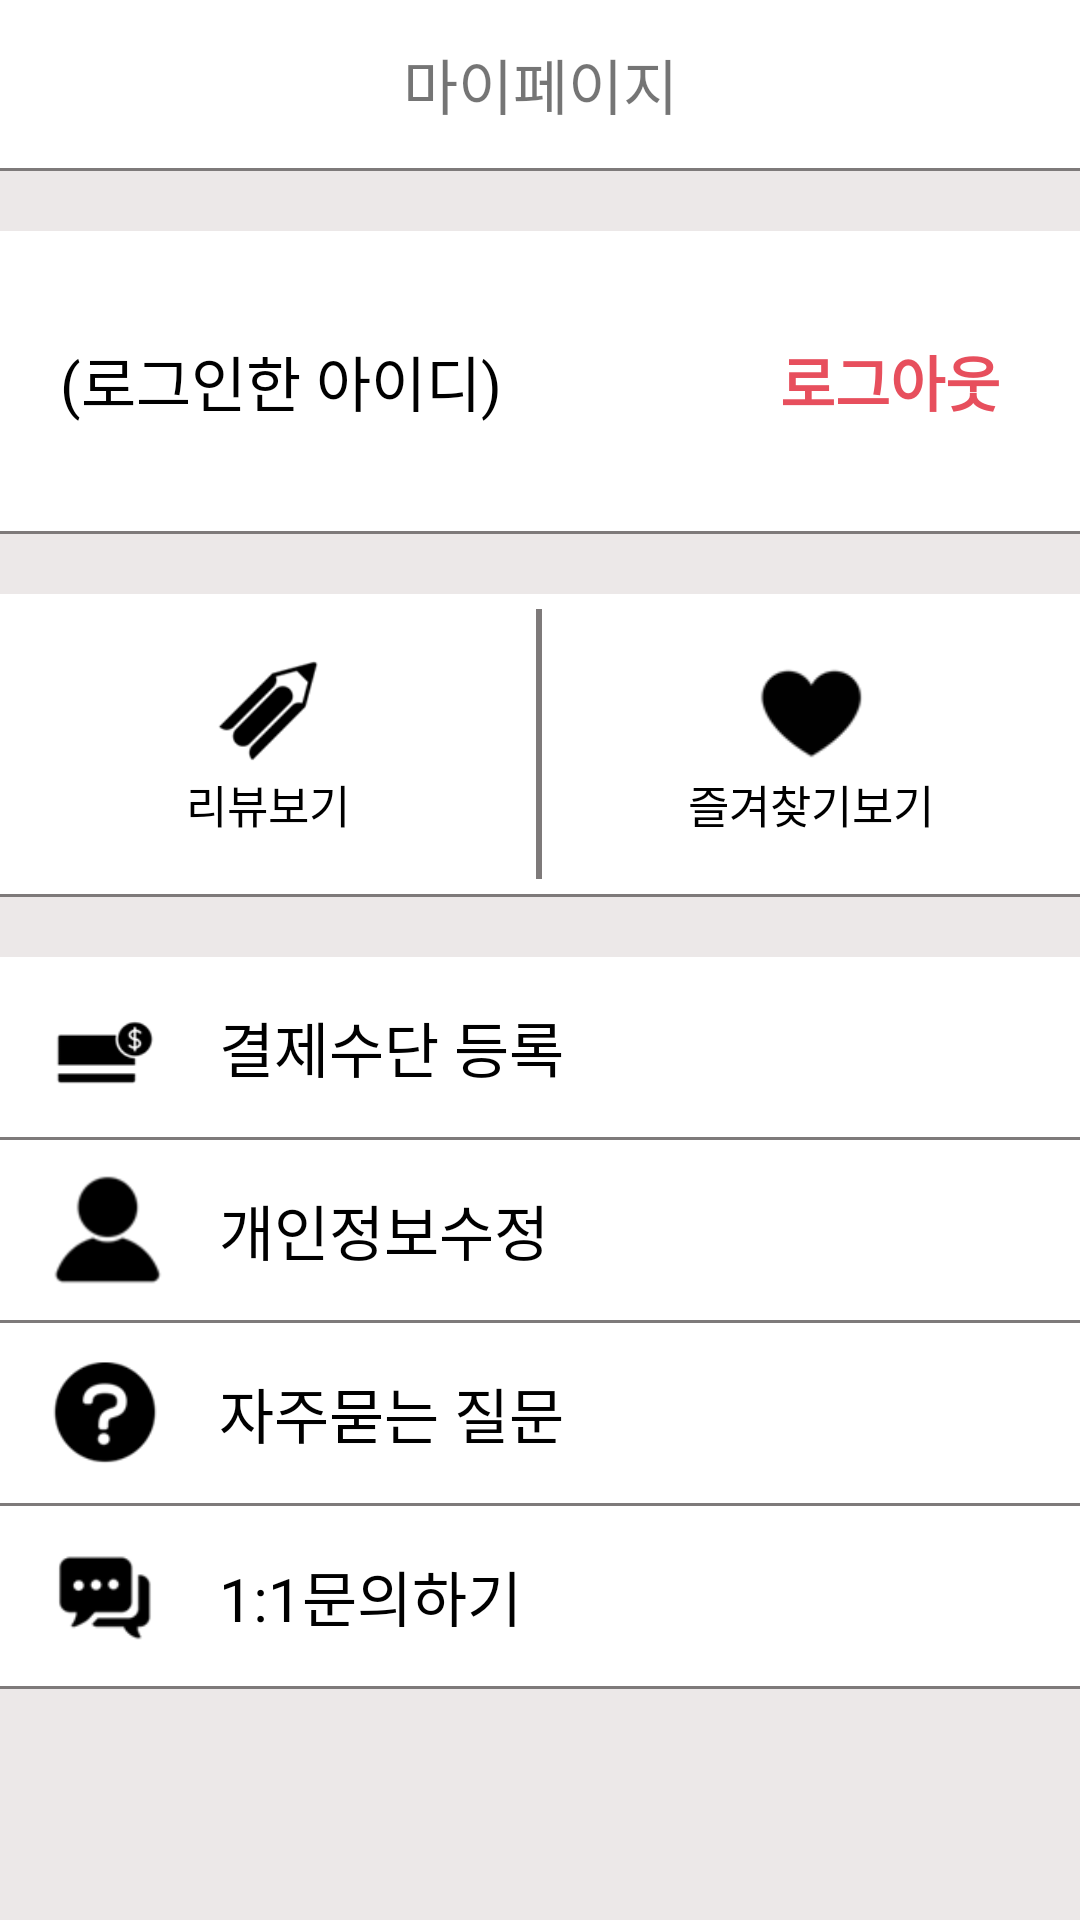

Icons on this 1080×1920 Android screen, each with the point to tap as (x,y):
ask: (105,1597)
blackheart: (811,713)
cash: (105,1052)
mypage: (108,1229)
question: (105,1412)
